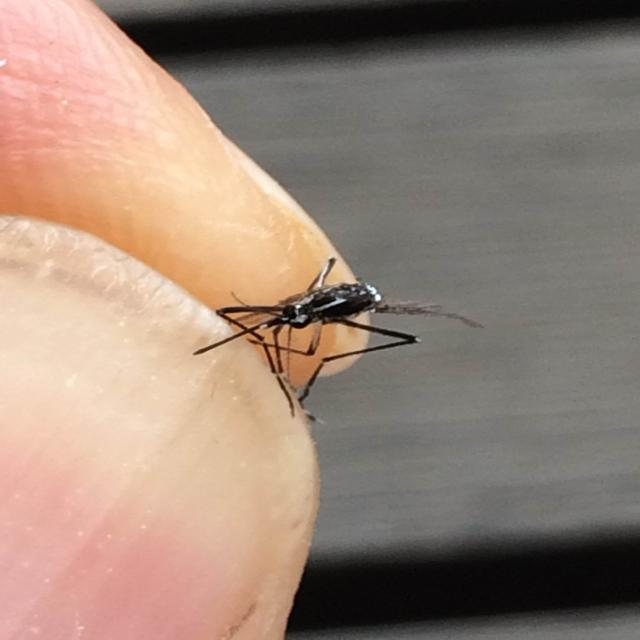albopictus: (187, 241, 462, 424)
